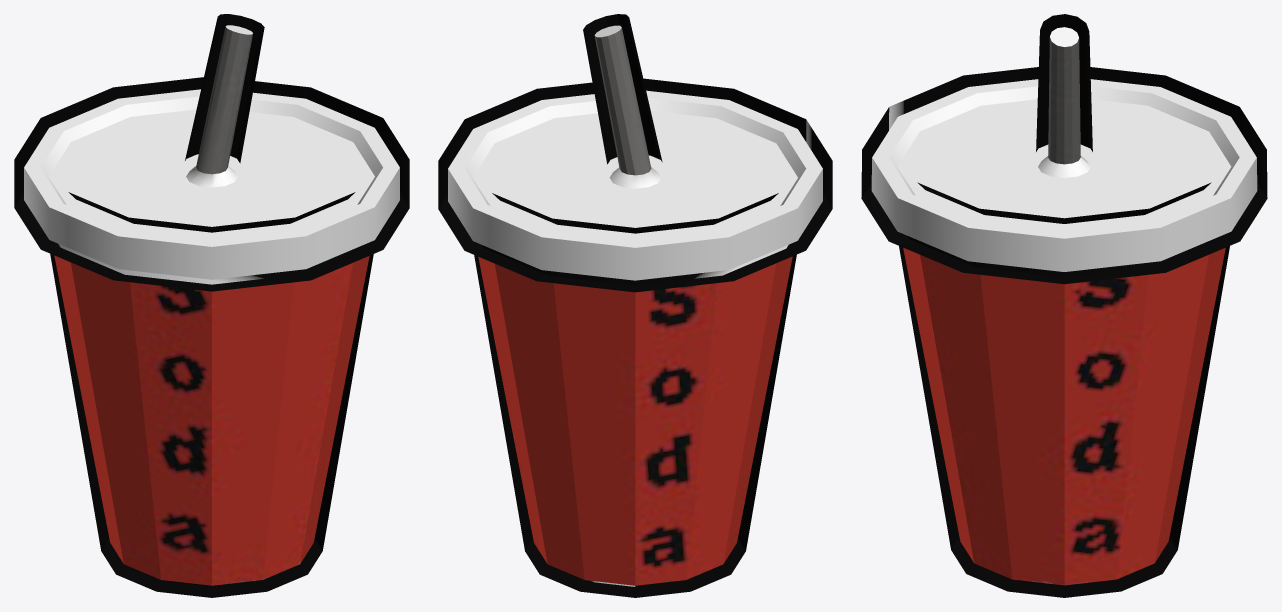
File: soda.fbx
The picture shows the model from 3 angles, left to right: view 1: azimuth 30°, elevation 25°; view 2: azimuth 150°, elevation 25°; view 3: azimuth 270°, elevation 25°; orthographic projection. The views are drawn at different scales.
Visible parts, largest first — view 1: pCylinder3; view 2: pCylinder3; view 3: pCylinder3.
Part boxes in pixels (x1,y1,x2,y2): pCylinder3: (14,14,409,597); pCylinder3: (438,14,832,597); pCylinder3: (861,14,1267,597).
Size of the model in its own units: 1.83 by 2.7 by 1.84.
